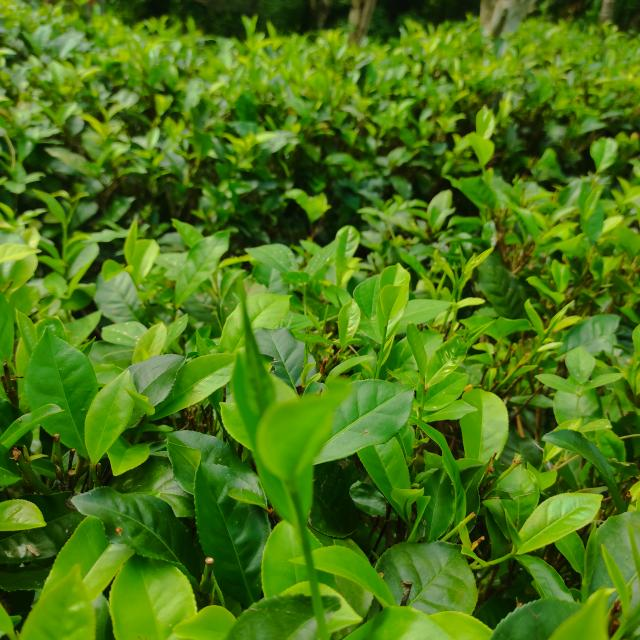unopened_leaf: (231, 266, 280, 417), (593, 541, 634, 617), (546, 295, 583, 336), (499, 504, 525, 550), (331, 291, 345, 309)
